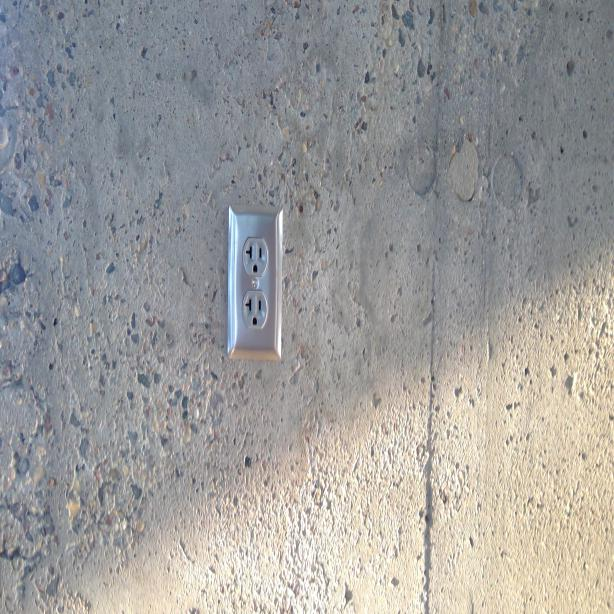typeb: (242, 242, 269, 284), (242, 292, 267, 334)
